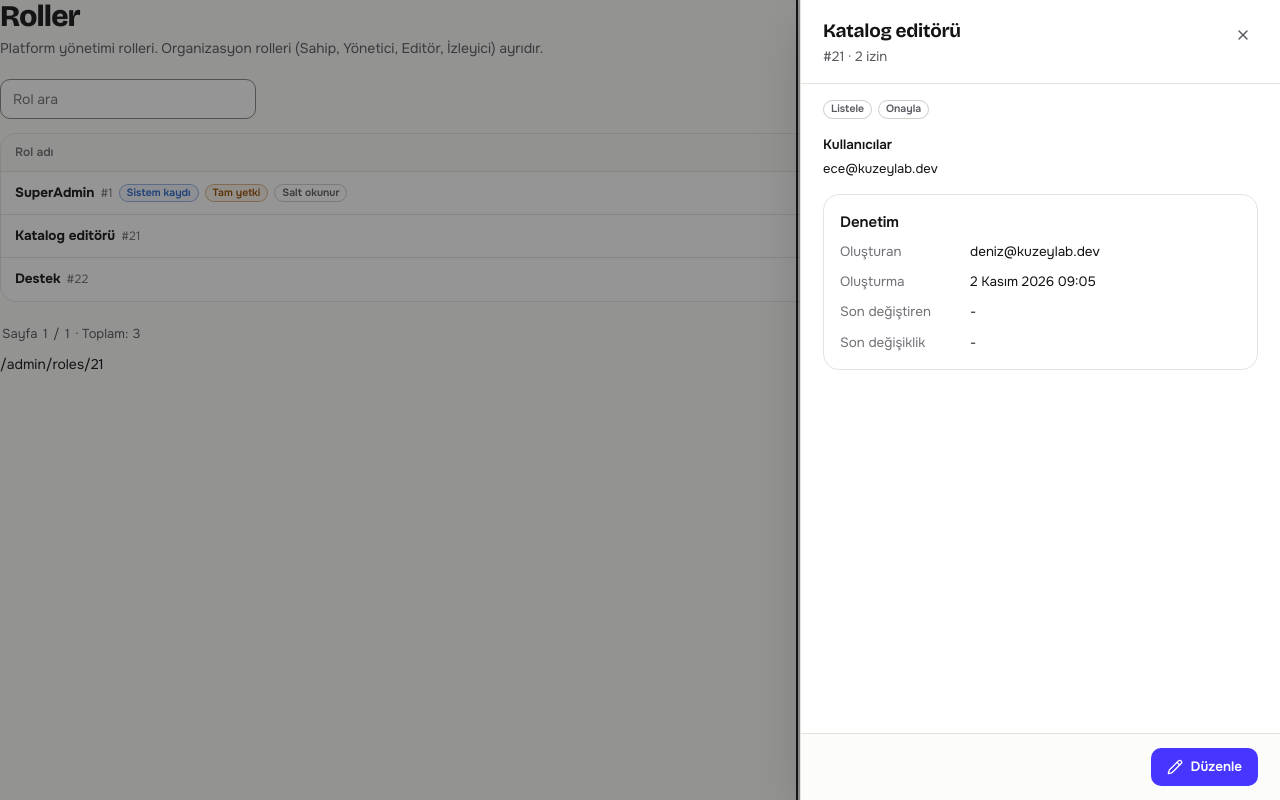
Scenario: RolesPage › edits only the name without the permission catalog right
Click the button "Düzenle": (1204, 767) [1151,748,1258,786]
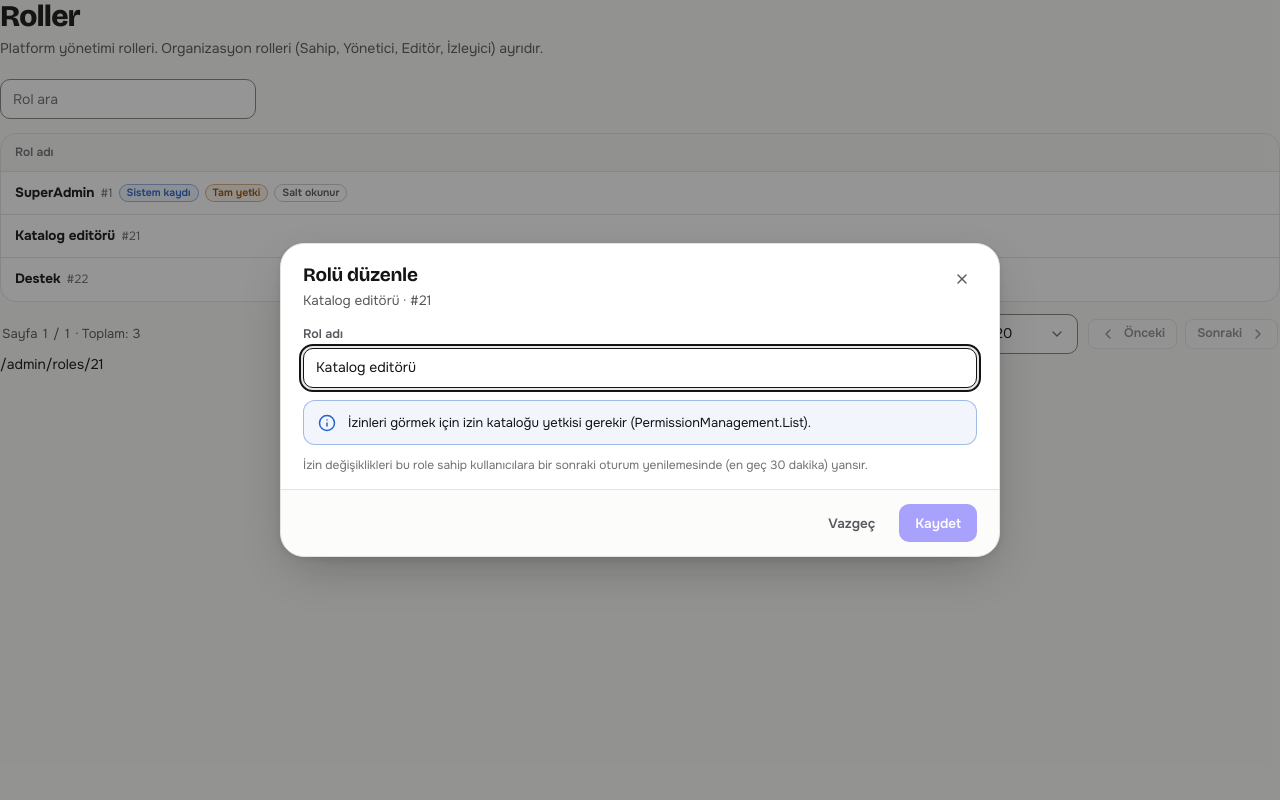
Check: the text "İzinleri görmek için izin kataloğu yetkisi gerekir" is shown, box [348,414,811,431]
